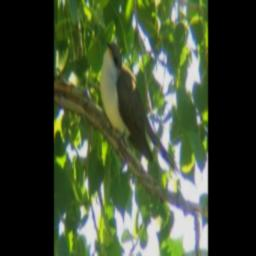Cuckoo: (100, 40, 183, 176)
